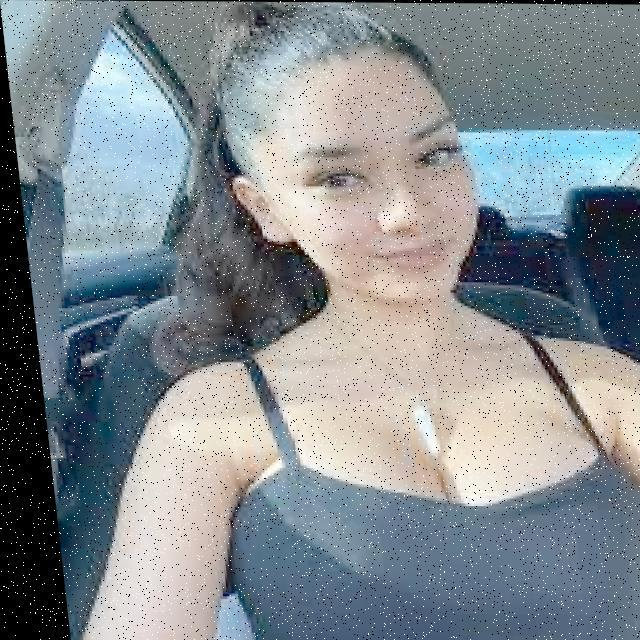noSeatbelt: (73, 232, 640, 640)
